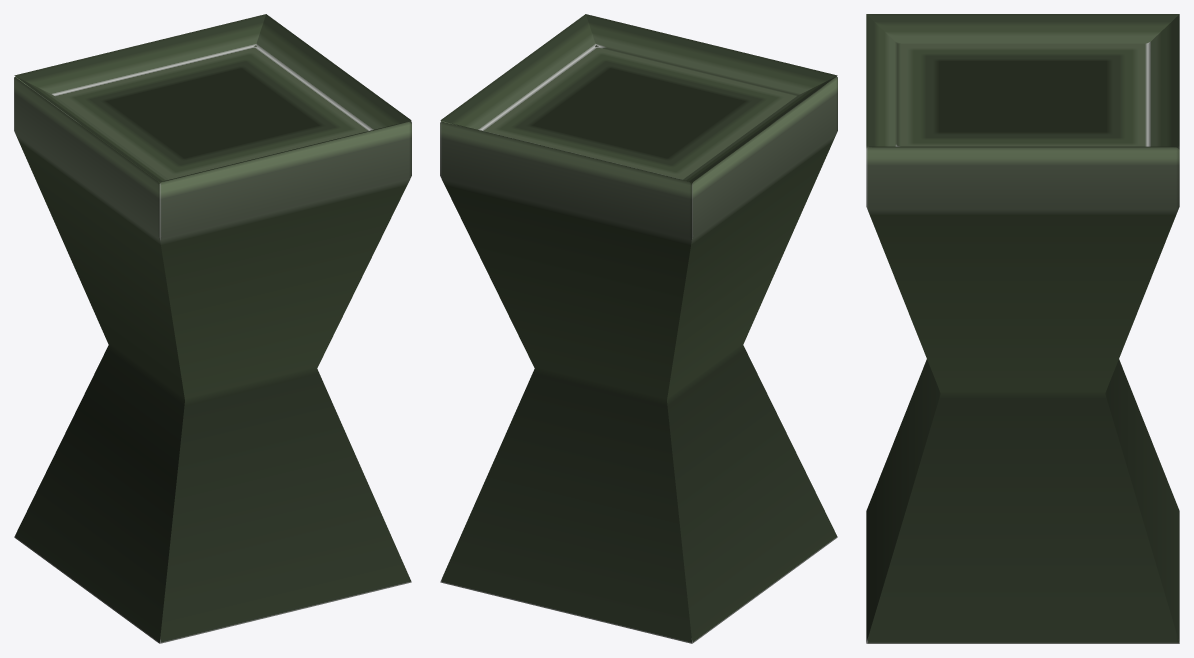
Rendered from brazier.fbx.
The picture shows the model from 3 angles, left to right: view 1: azimuth 30°, elevation 25°; view 2: azimuth 150°, elevation 25°; view 3: azimuth 270°, elevation 25°; orthographic projection. The views are drawn at different scales.
Visible parts, largest first — view 1: pCube1; view 2: pCube1; view 3: pCube1.
Boxes of the visible parts, bbox=[...] form: pCube1: bbox=[14, 14, 411, 643]; pCube1: bbox=[440, 14, 837, 643]; pCube1: bbox=[866, 14, 1179, 643].
Bounding box in the file's own units: 1 × 1.75 × 1.
Materials: 1 (1 with a texture image).
